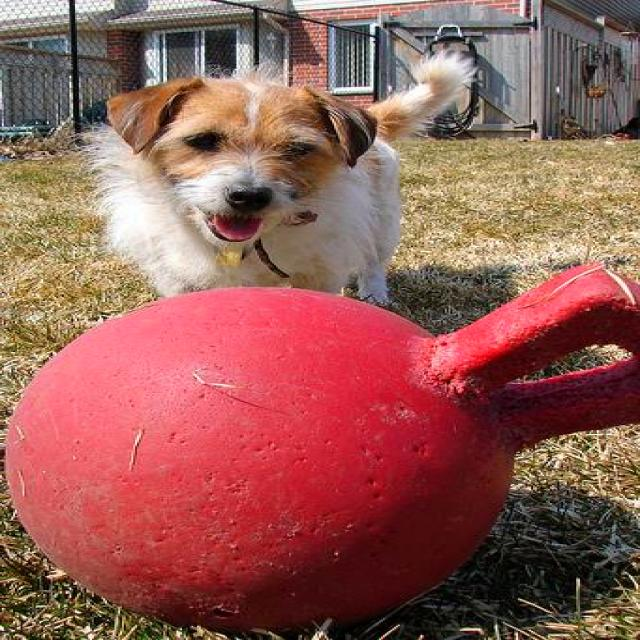toy_terrier: (73, 45, 477, 304)
